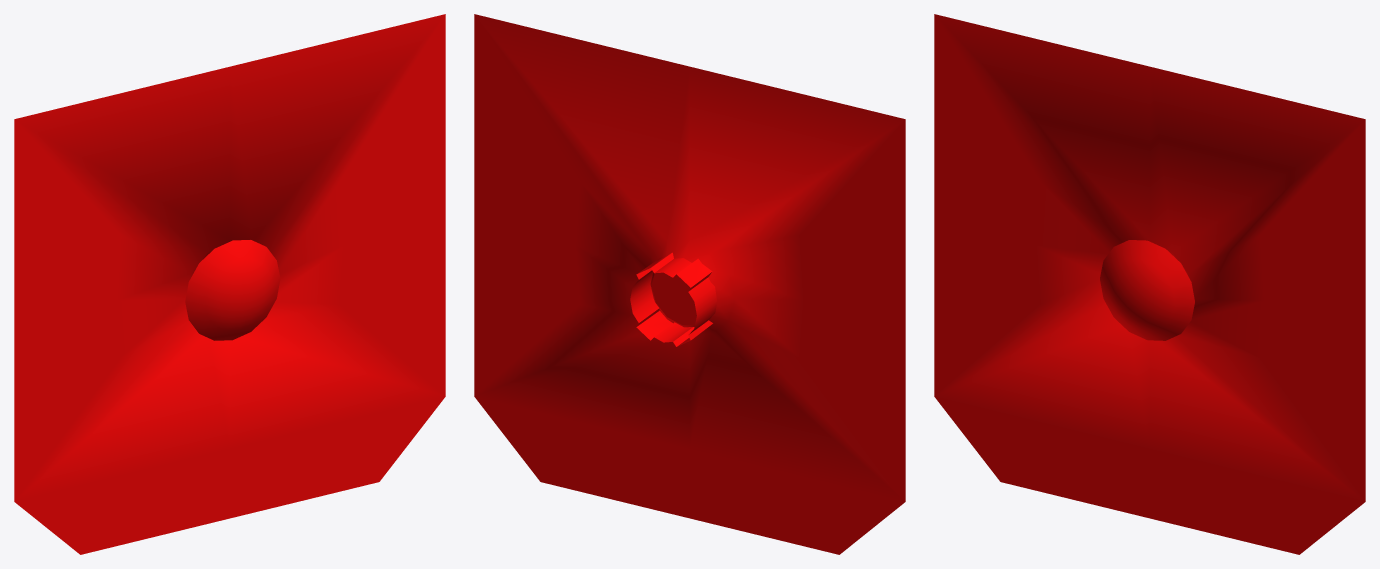
File: MeshPsSinkbasin_19_1.obj
3 renders of one model, left to right at view 1: azimuth 30°, elevation 25°; view 2: azimuth 150°, elevation 25°; view 3: azimuth 330°, elevation 25°, orthographic.
Parts seen in each view (by area): view 1: PsSinkbasin_19; view 2: PsSinkbasin_19; view 3: PsSinkbasin_19.
Part boxes in pixels (x1,y1,x2,y2): PsSinkbasin_19: (14, 14, 445, 554); PsSinkbasin_19: (474, 14, 905, 554); PsSinkbasin_19: (934, 14, 1365, 554).
Bounding box in the file's own units: 0.3224 × 0.3226 × 0.0527.
